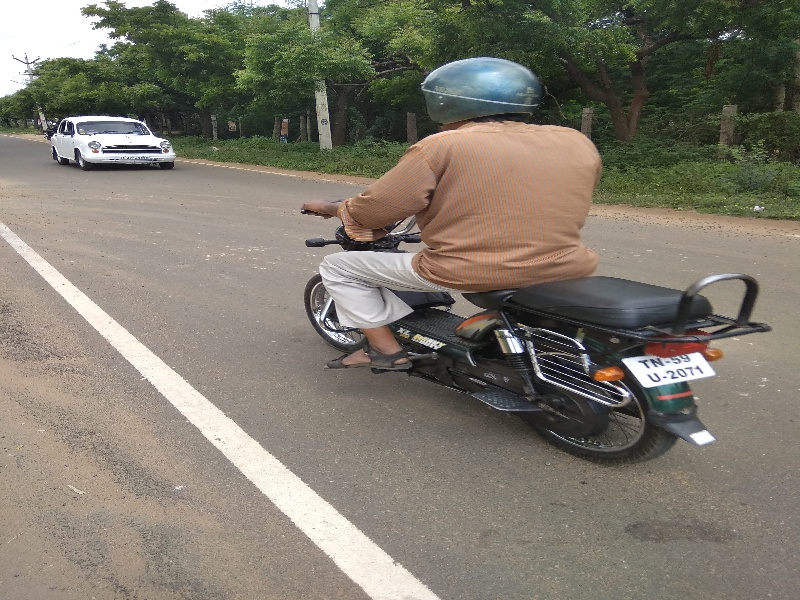biker: (289, 20, 786, 481)
helmet: (412, 41, 550, 137)
